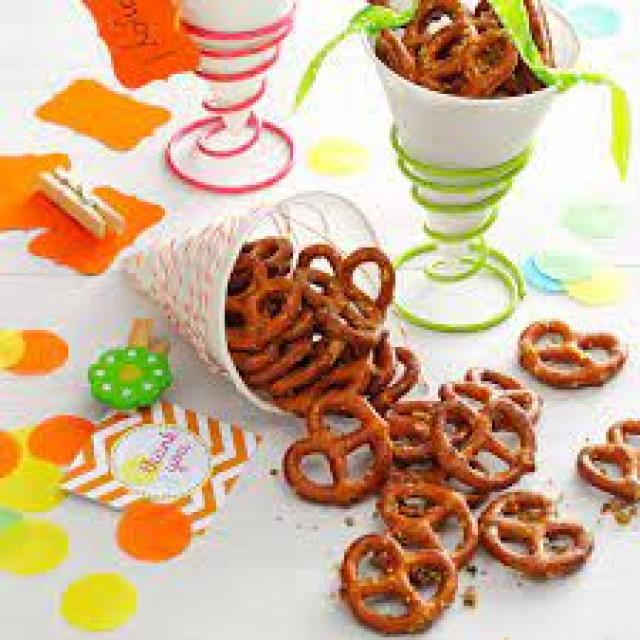Salatini: (239, 247, 637, 605)
